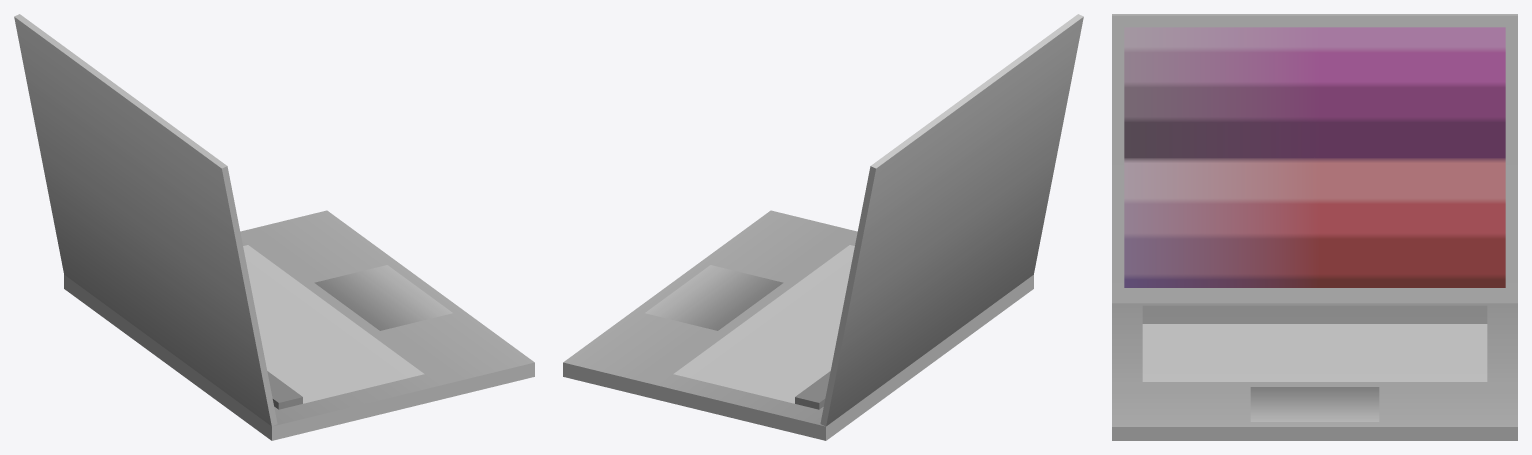
Rendered from notebook.glb.
3 views of the same model, side by side, from view 1: azimuth 30°, elevation 25°; view 2: azimuth 150°, elevation 25°; view 3: azimuth 270°, elevation 25° (orthographic). The views are drawn at different scales.
Parts seen in each view (by area): view 1: NoteBook; view 2: NoteBook; view 3: NoteBook.
Part boxes in pixels (x1,y1,x2,y2): NoteBook: [14, 14, 534, 440]; NoteBook: [563, 14, 1083, 440]; NoteBook: [1112, 14, 1517, 440].
Size of the model in its own units: 0.2454 by 0.214 by 0.2821.
Materials: 1 (1 with a texture image).
